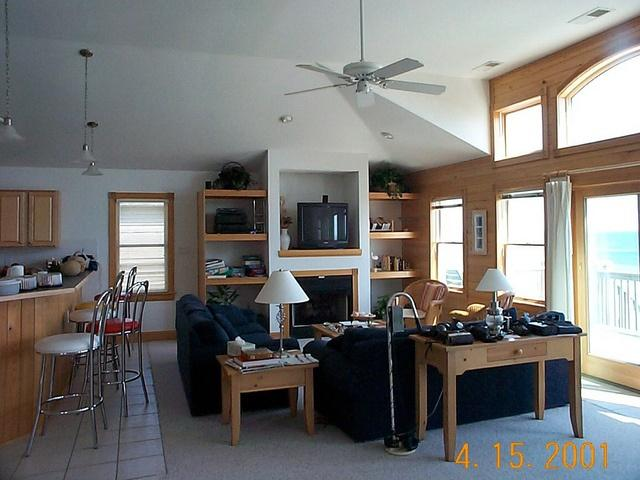Lemari: (0, 189, 61, 247)
Meja: (409, 314, 588, 461), (215, 347, 319, 444)
Rak: (196, 188, 269, 306), (367, 190, 421, 277)
